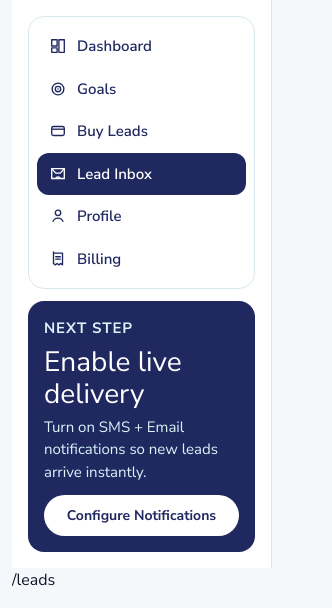
Test: Sidebar role-based navigation › redirects configure notifications to dashboard with settings query
This screenshot has width=332, height=608.
Click the button "Configure Notifications" at (142, 516), box 44,495 -> 239,536
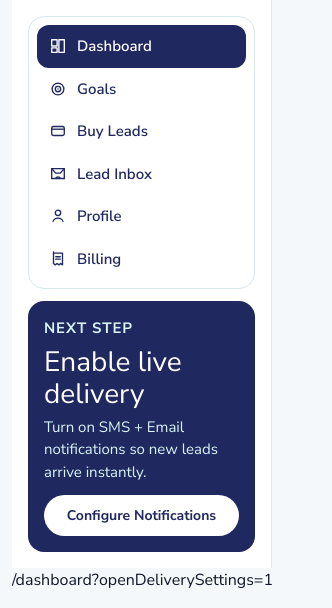
Expected: the text with test id "location" reads "/dashboard?openDeliverySettings=1", 12,569 -> 273,591
